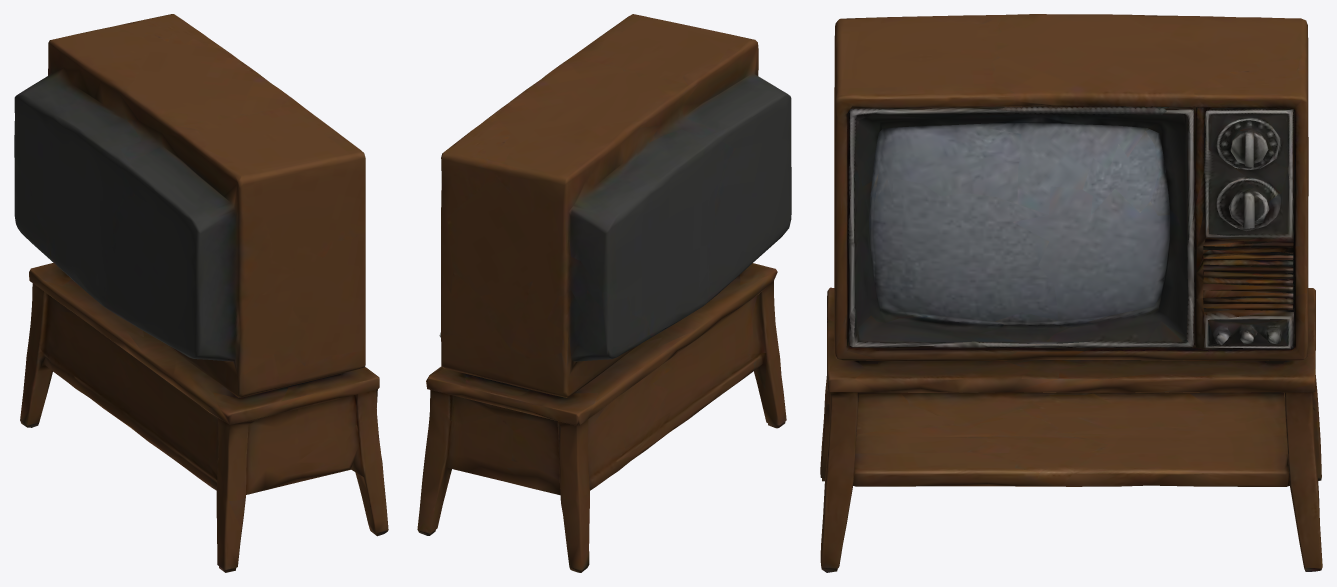
Rendered from crttv.glb.
3 renders of one model, left to right at view 1: azimuth 30°, elevation 25°; view 2: azimuth 150°, elevation 25°; view 3: azimuth 270°, elevation 25°, orthographic. The views are drawn at different scales.
Parts seen in each view (by area): view 1: tripo_node_1f9d2132-1529-4f46-9218-9cd03260b4bb; view 2: tripo_node_1f9d2132-1529-4f46-9218-9cd03260b4bb; view 3: tripo_node_1f9d2132-1529-4f46-9218-9cd03260b4bb.
Boxes of the visible parts, x1,y1,x2,y2 form: tripo_node_1f9d2132-1529-4f46-9218-9cd03260b4bb: (14, 14, 388, 572); tripo_node_1f9d2132-1529-4f46-9218-9cd03260b4bb: (417, 14, 791, 572); tripo_node_1f9d2132-1529-4f46-9218-9cd03260b4bb: (820, 14, 1322, 572).
Size of the model in its own units: 0.4963 by 1 by 0.9519.
1 material, 1 textured.
